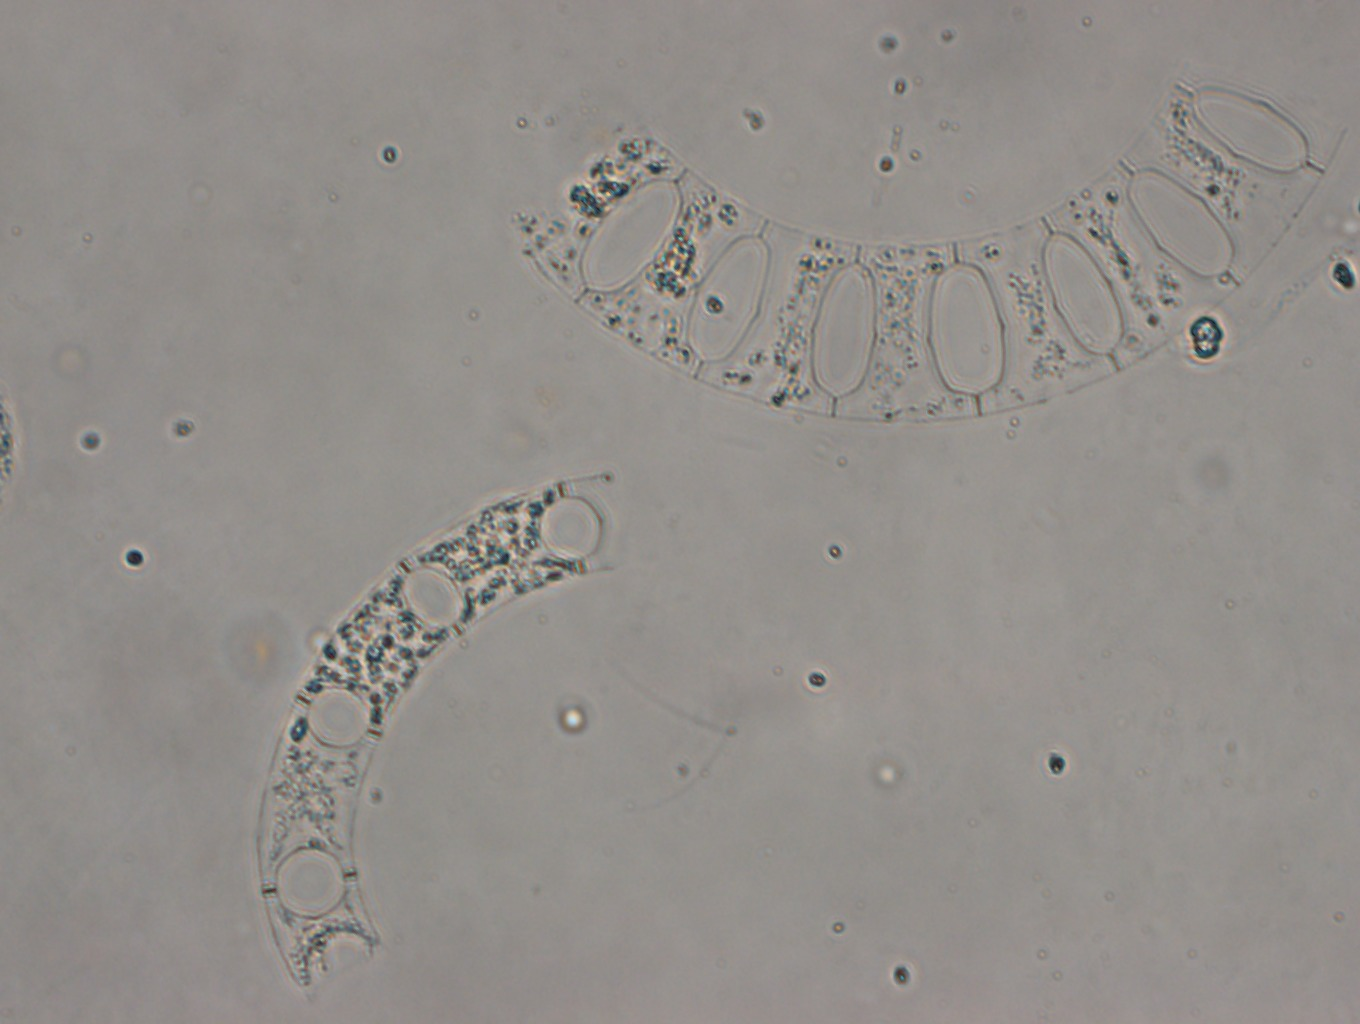eucampia: (505, 60, 1351, 427), (256, 467, 624, 997)
